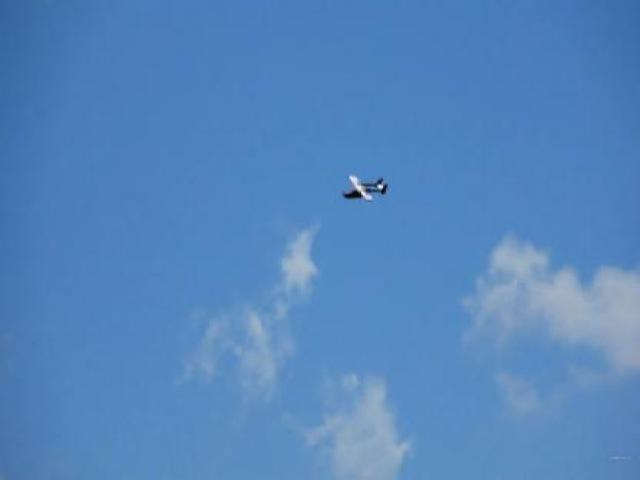uav: (339, 167, 390, 207)
